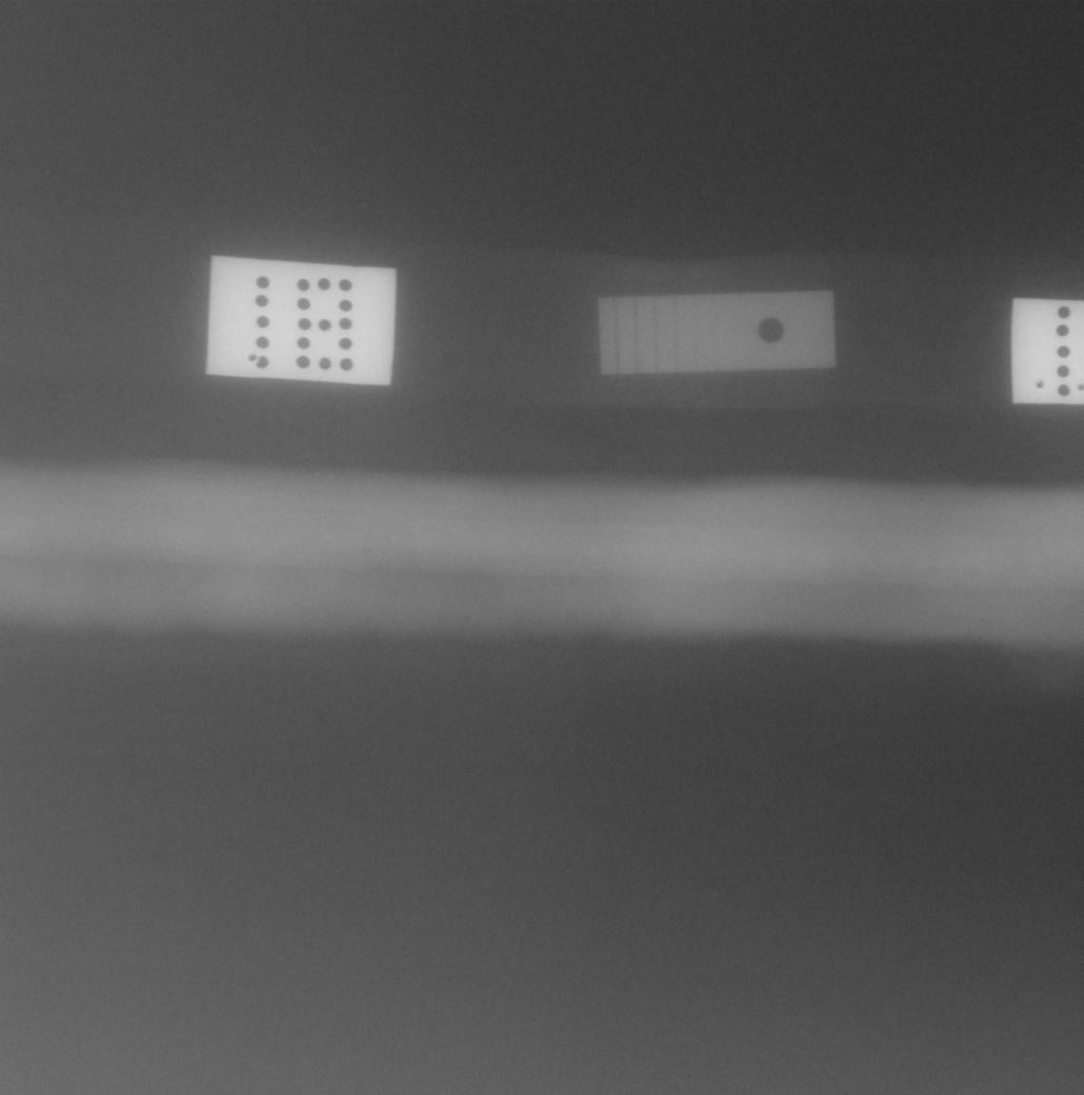Reference Standard 1: (599, 290, 837, 375)
